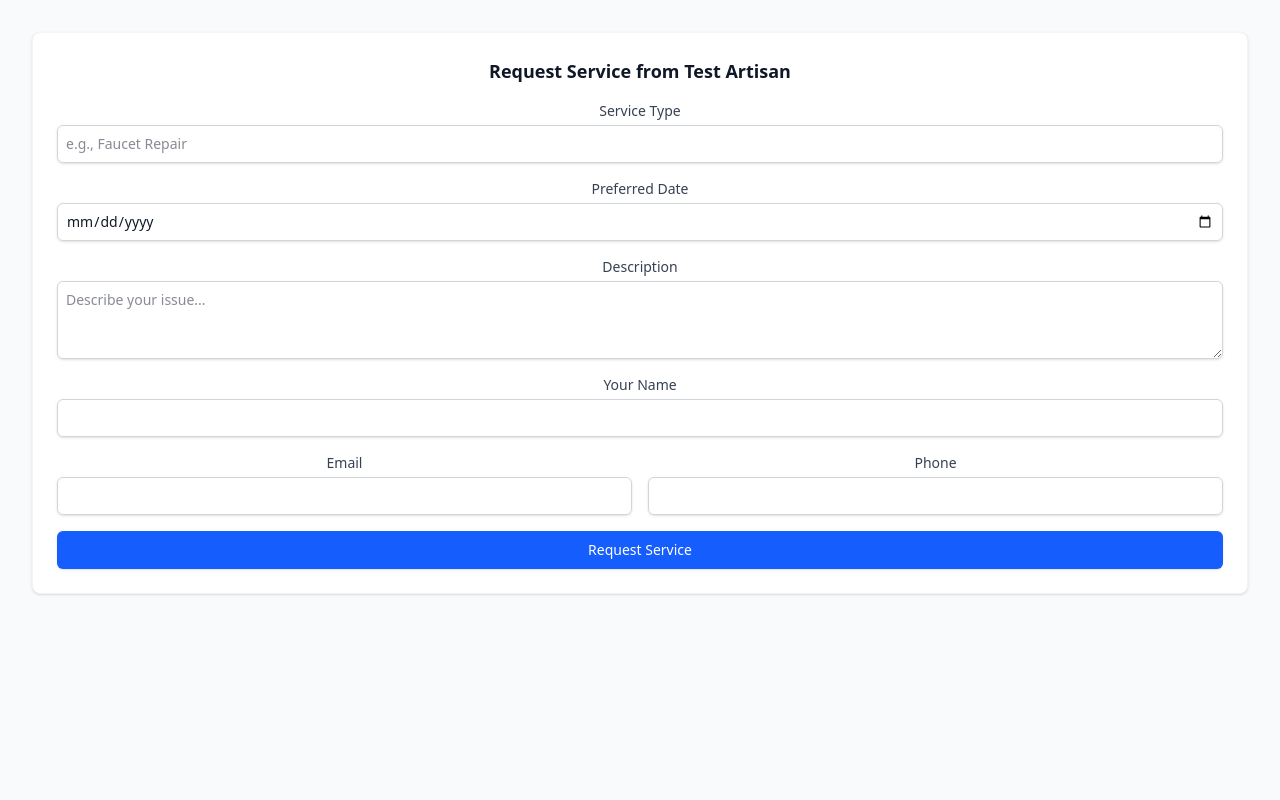
Test: ServiceRequestForm › validates required fields
Click the button "Request Service": click(640, 550) [57,531,1223,569]
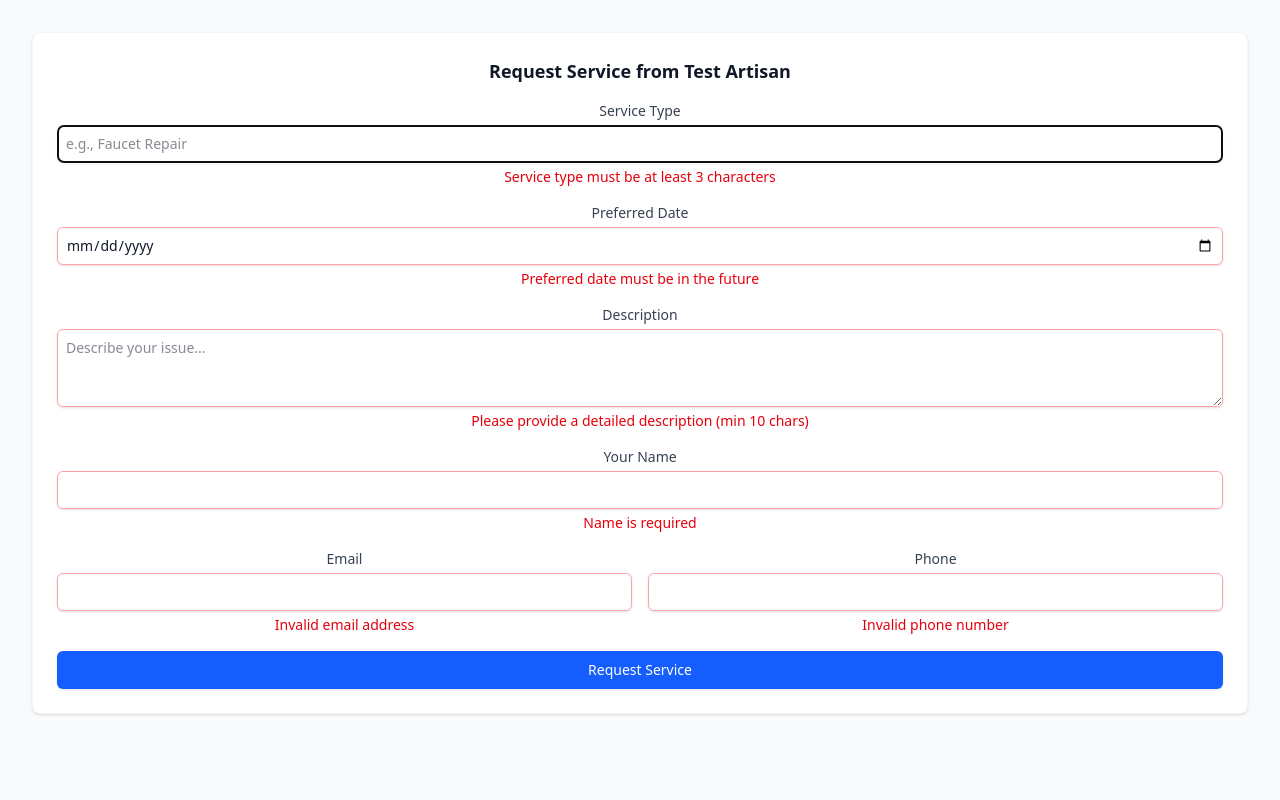
Result: the text "Service type must be at least 3 characters" is shown at [504,167,776,186]
Result: the text "Name is required" is shown at [583,513,697,532]
